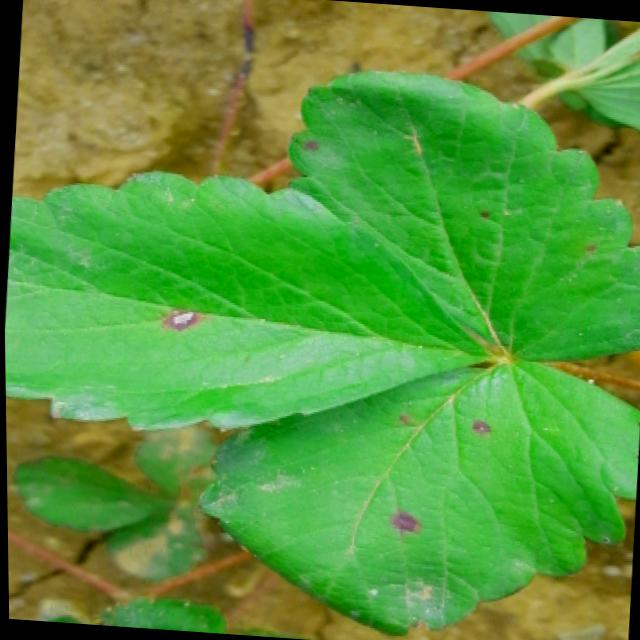Leaf Spot: (4, 170, 503, 432), (193, 361, 639, 638), (286, 68, 640, 363), (130, 422, 215, 503)
